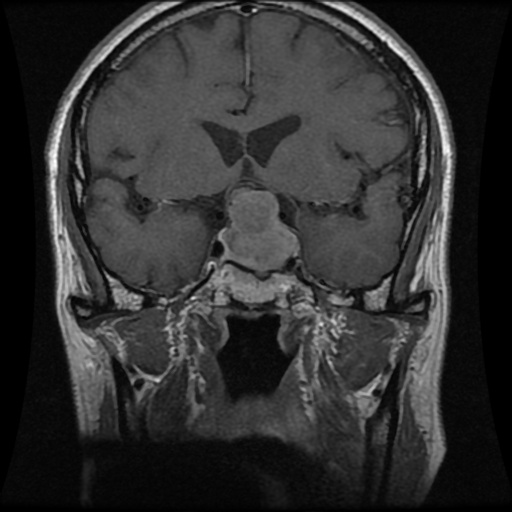pituitary: (223, 190, 298, 268)
